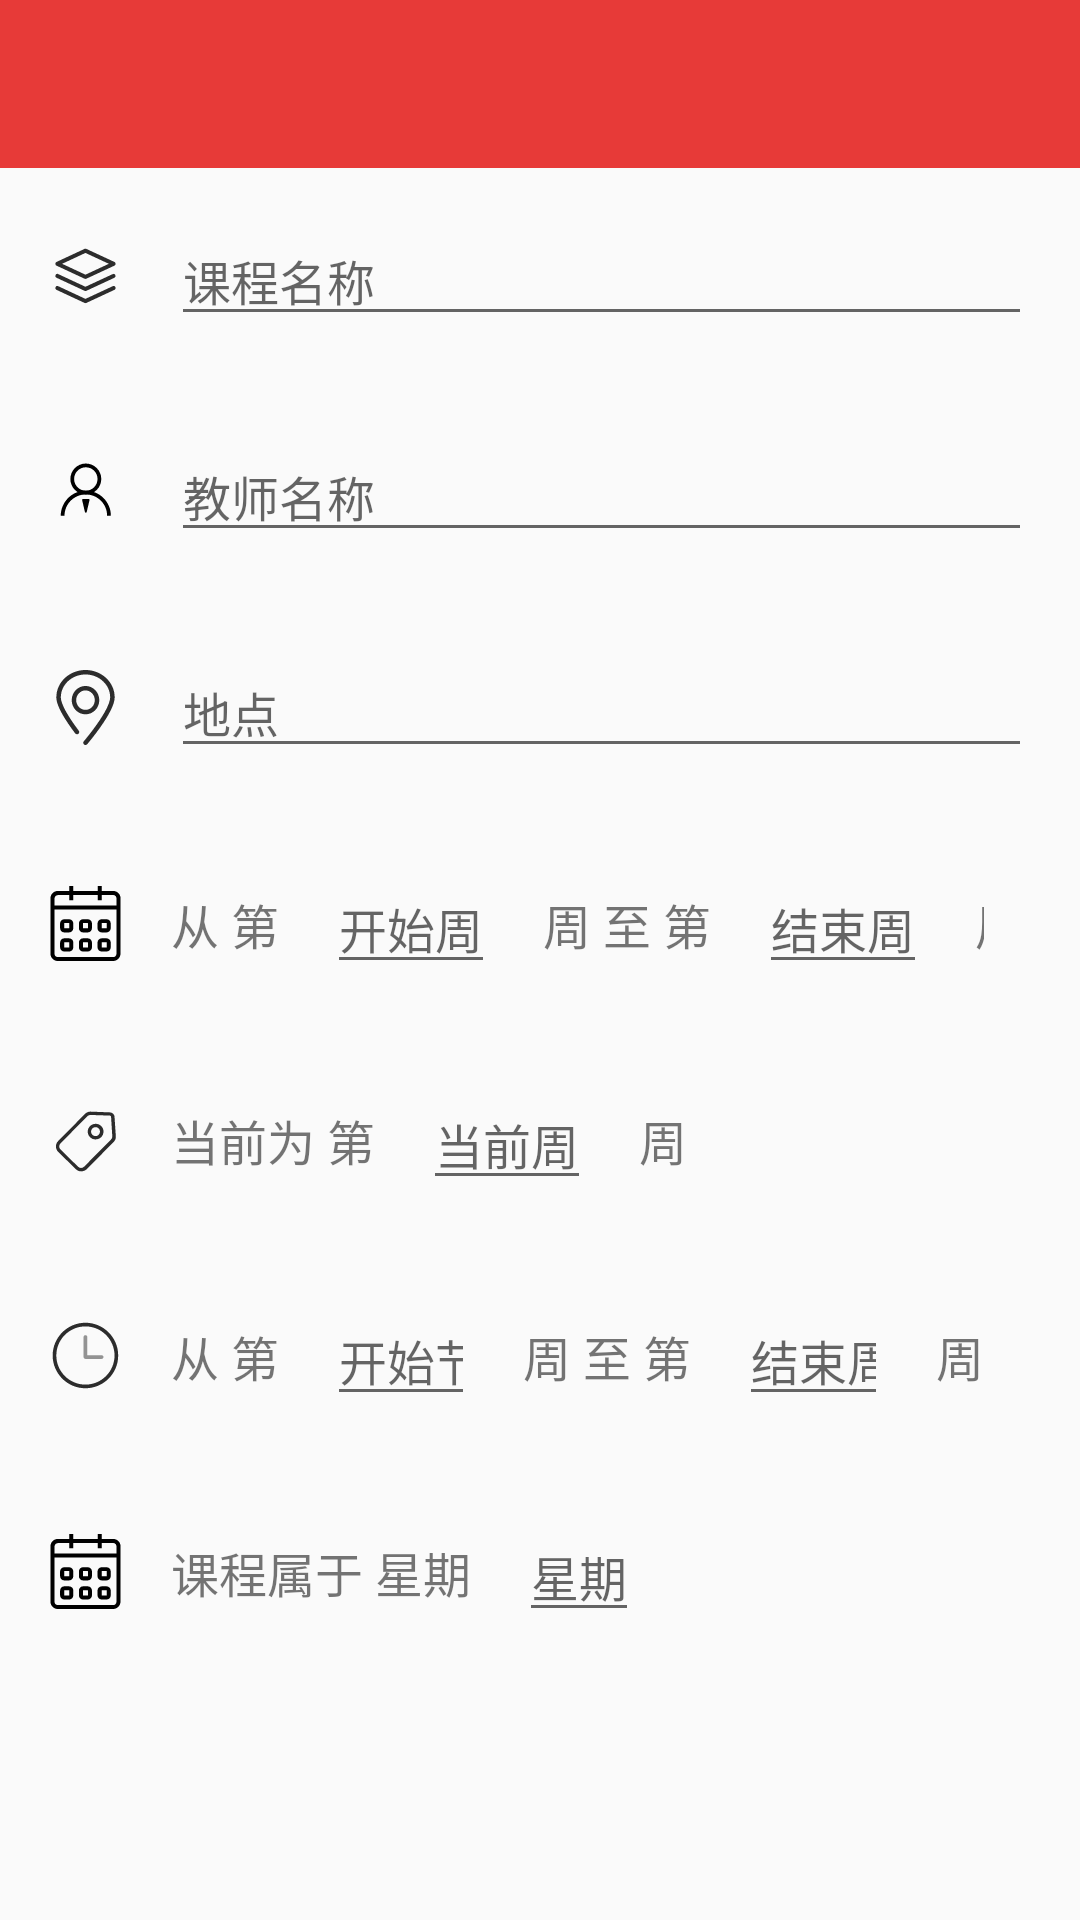

Locate icon controls on the screen. Image size 1080x1920, boxes as bbox=[x1, y1, x2, y2].
course: bbox=[55, 248, 116, 303]
location: bbox=[56, 670, 115, 745]
start end section: bbox=[52, 1322, 119, 1389]
start end week: bbox=[50, 886, 121, 961], bbox=[50, 1534, 121, 1609]
teacher: bbox=[60, 463, 111, 516]
